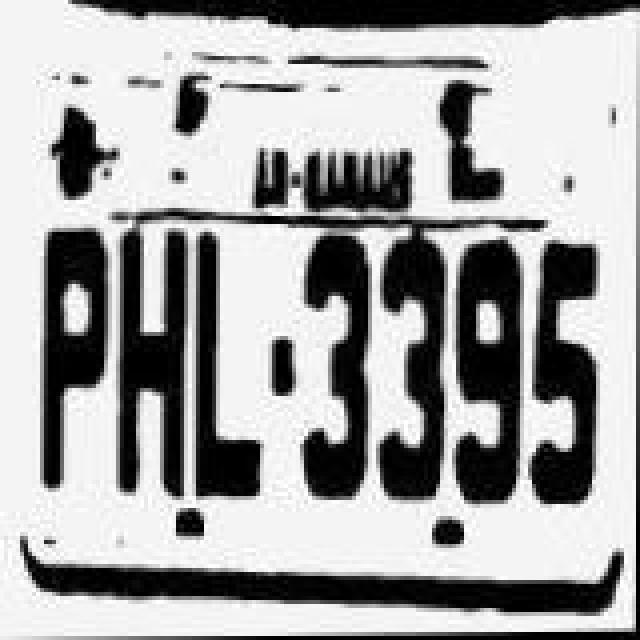3: (302, 232, 382, 520), (374, 234, 454, 510)
5: (530, 230, 618, 534)
9: (452, 240, 536, 516)
H: (108, 228, 192, 512)
L: (190, 230, 270, 510)
P: (24, 224, 116, 528)
